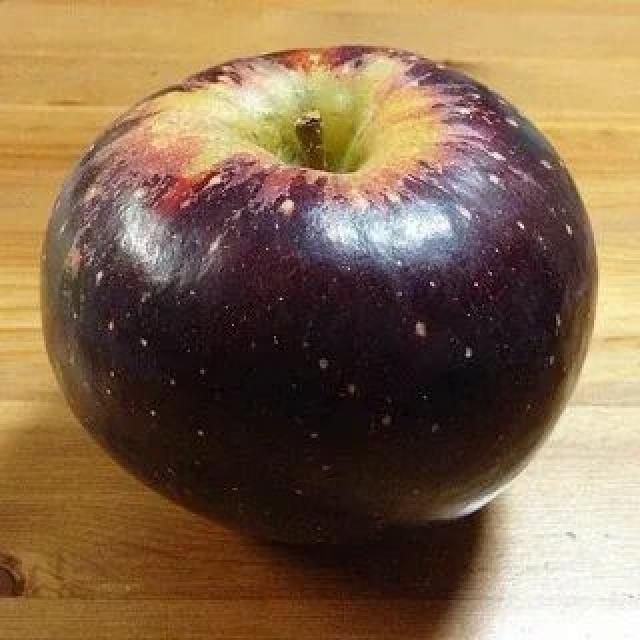Fresh Apple: (37, 37, 600, 548)
